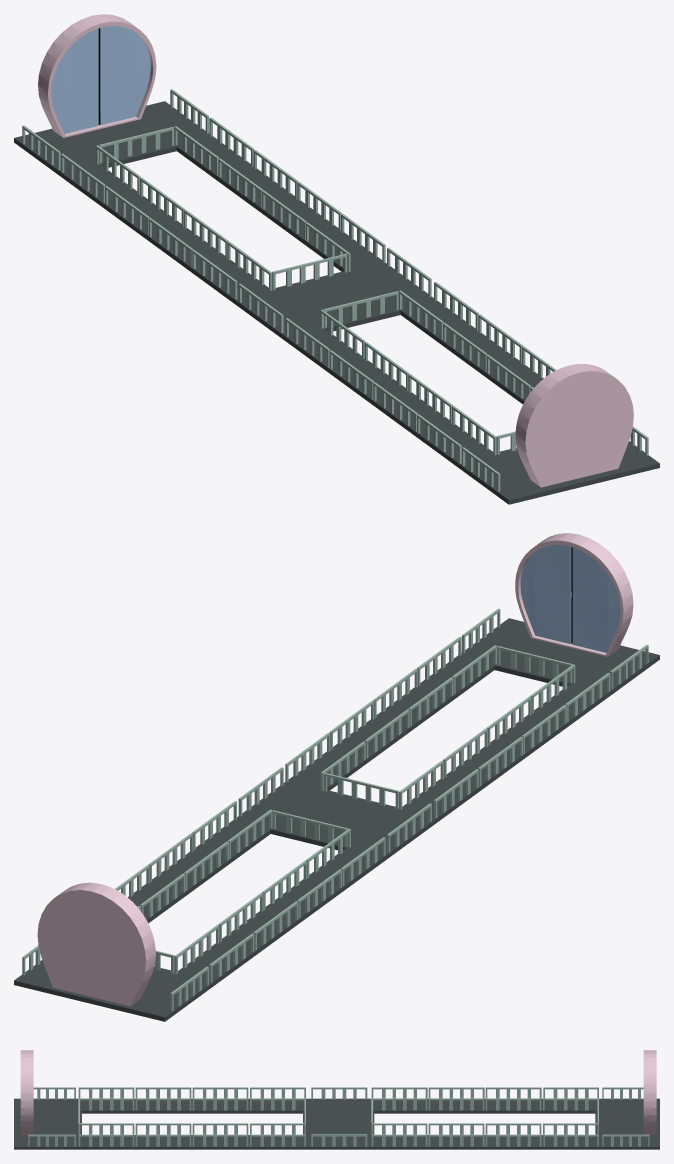
Rendered from Enviourment Dev 1.fbx.
3 renders of one model, top to bottom at view 1: azimuth 30°, elevation 25°; view 2: azimuth 150°, elevation 25°; view 3: azimuth 270°, elevation 25°, orthographic. The views are drawn at different scales.
Parts seen in each view (by area): view 1: Cube.002, Cylinder; view 2: Cube.002, Cylinder; view 3: Cube.002, Cylinder.
Part boxes in pixels (left/top/right/bottom): Cube.002: left=14, top=89, right=659, bottom=504; Cylinder: left=38, top=14, right=633, bottom=487; Cube.002: left=14, top=608, right=659, bottom=1021; Cylinder: left=37, top=533, right=633, bottom=1006; Cube.002: left=14, top=1087, right=659, bottom=1149; Cylinder: left=20, top=1050, right=656, bottom=1135.
Size of what is drawn, in the model's own units: 1739 by 1211 by 9873.
